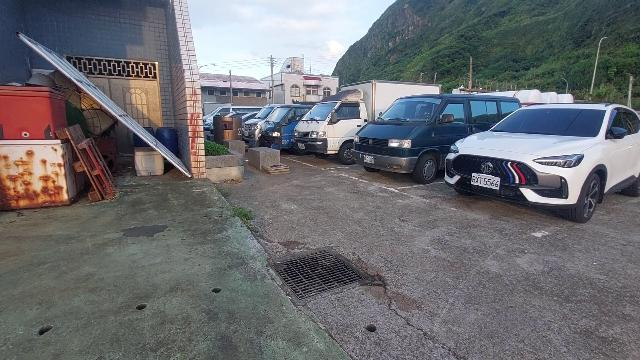pollute: (1, 70, 123, 212), (143, 126, 179, 157), (133, 146, 166, 176)
